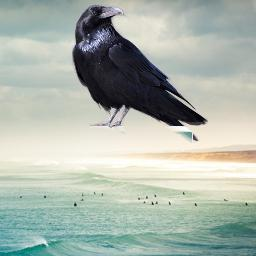Crow: (72, 4, 208, 143)
